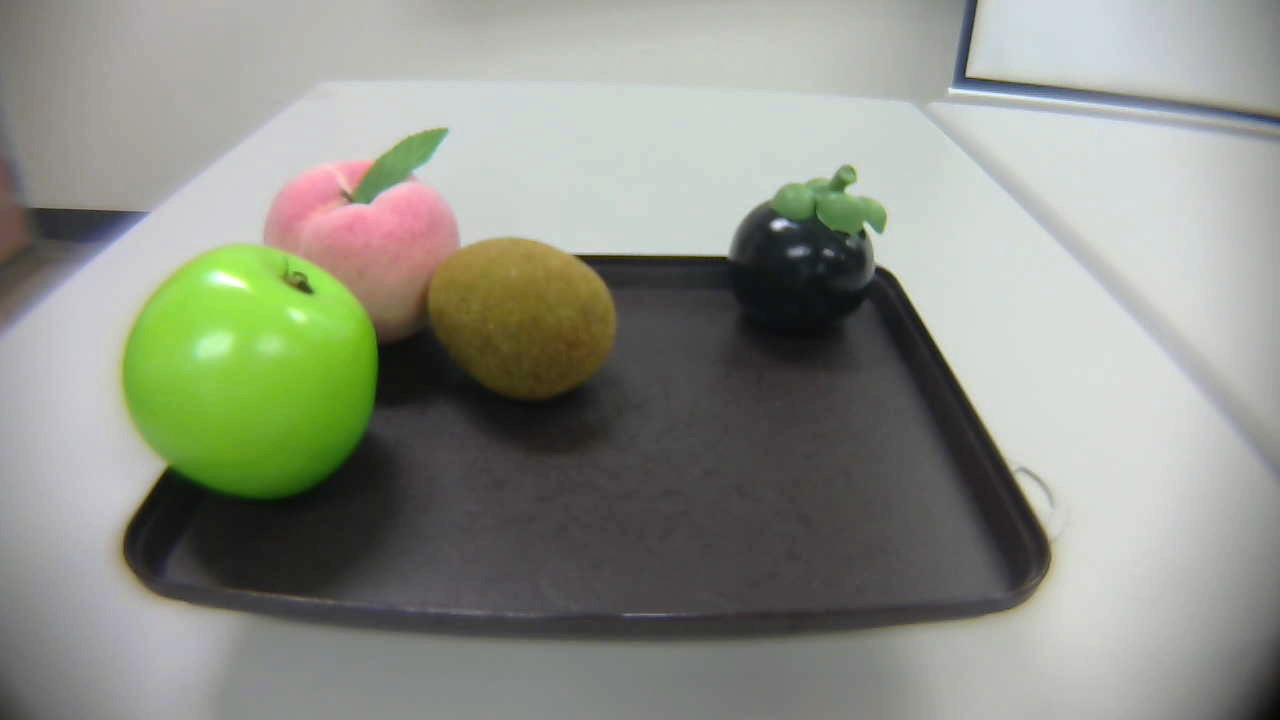green apple: (115, 238, 390, 499)
kiwi fruit: (417, 230, 633, 415)
mangosteen: (727, 156, 892, 340)
peach: (250, 121, 465, 353)
